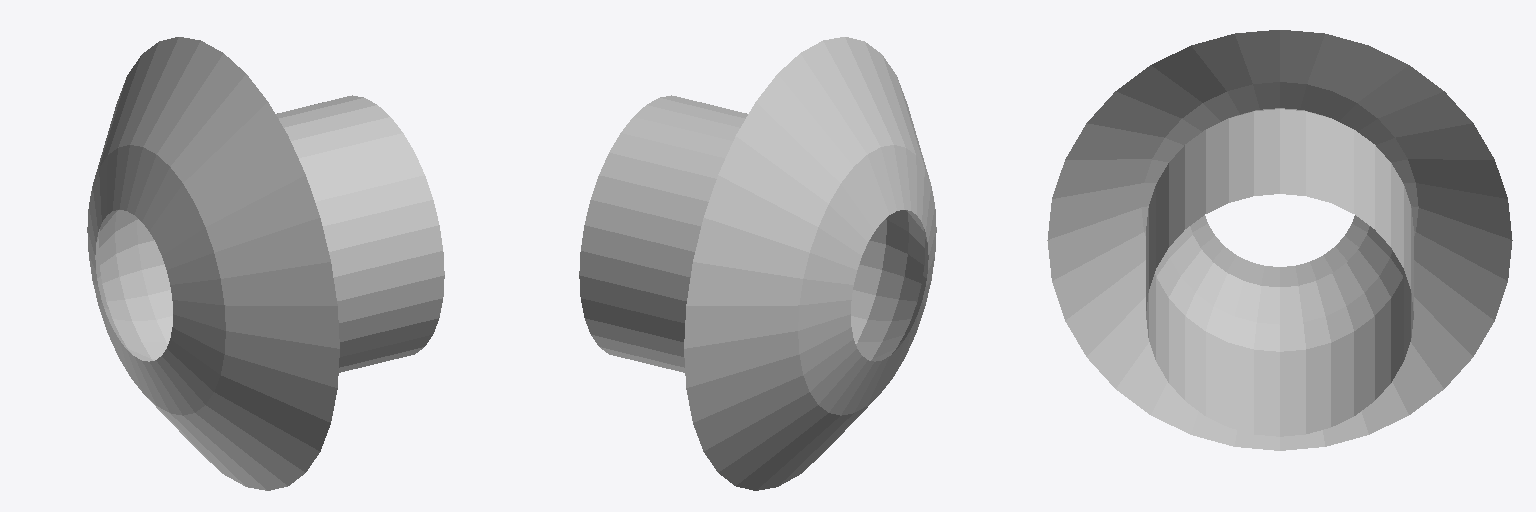
The model's file is beam-cylinder-mesh.obj.
3 renders of one model, left to right at view 1: azimuth 30°, elevation 25°; view 2: azimuth 150°, elevation 25°; view 3: azimuth 270°, elevation 25°, orthographic.
Parts seen in each view (by area): view 1: Cylinder.001, Cylinder; view 2: Cylinder.001, Cylinder; view 3: Cylinder.001, Cylinder.
Boxes of the visible parts, x1,y1,x2,y2 form: Cylinder.001: [87, 37, 339, 490]; Cylinder: [99, 95, 444, 372]; Cylinder.001: [684, 37, 936, 490]; Cylinder: [579, 95, 924, 372]; Cylinder.001: [1047, 30, 1512, 450]; Cylinder: [1146, 108, 1413, 436].
Size of the model in its own units: 2.1 by 3.47 by 3.47.